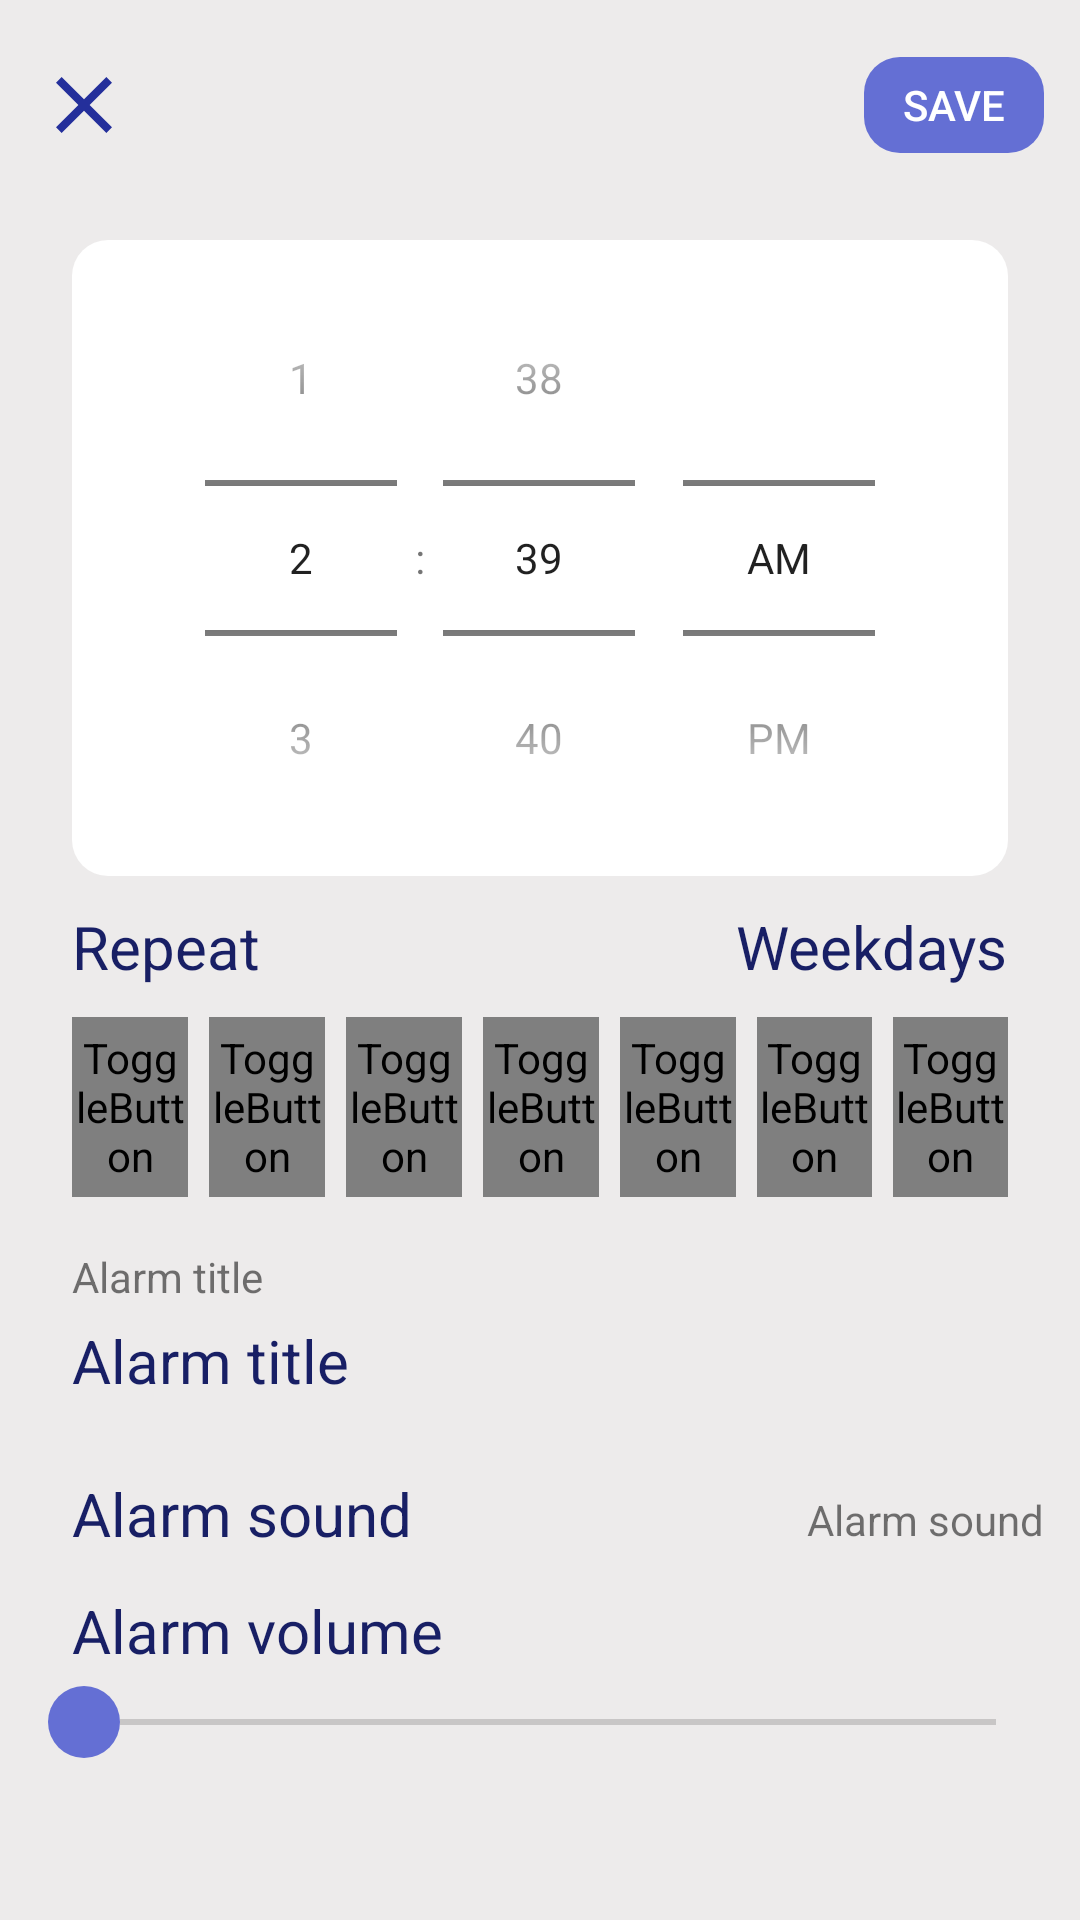

Where icons sit on this 1080px x 1920px app screen, as box(x1, y1, x2, y2):
exit: box(56, 77, 112, 133)
